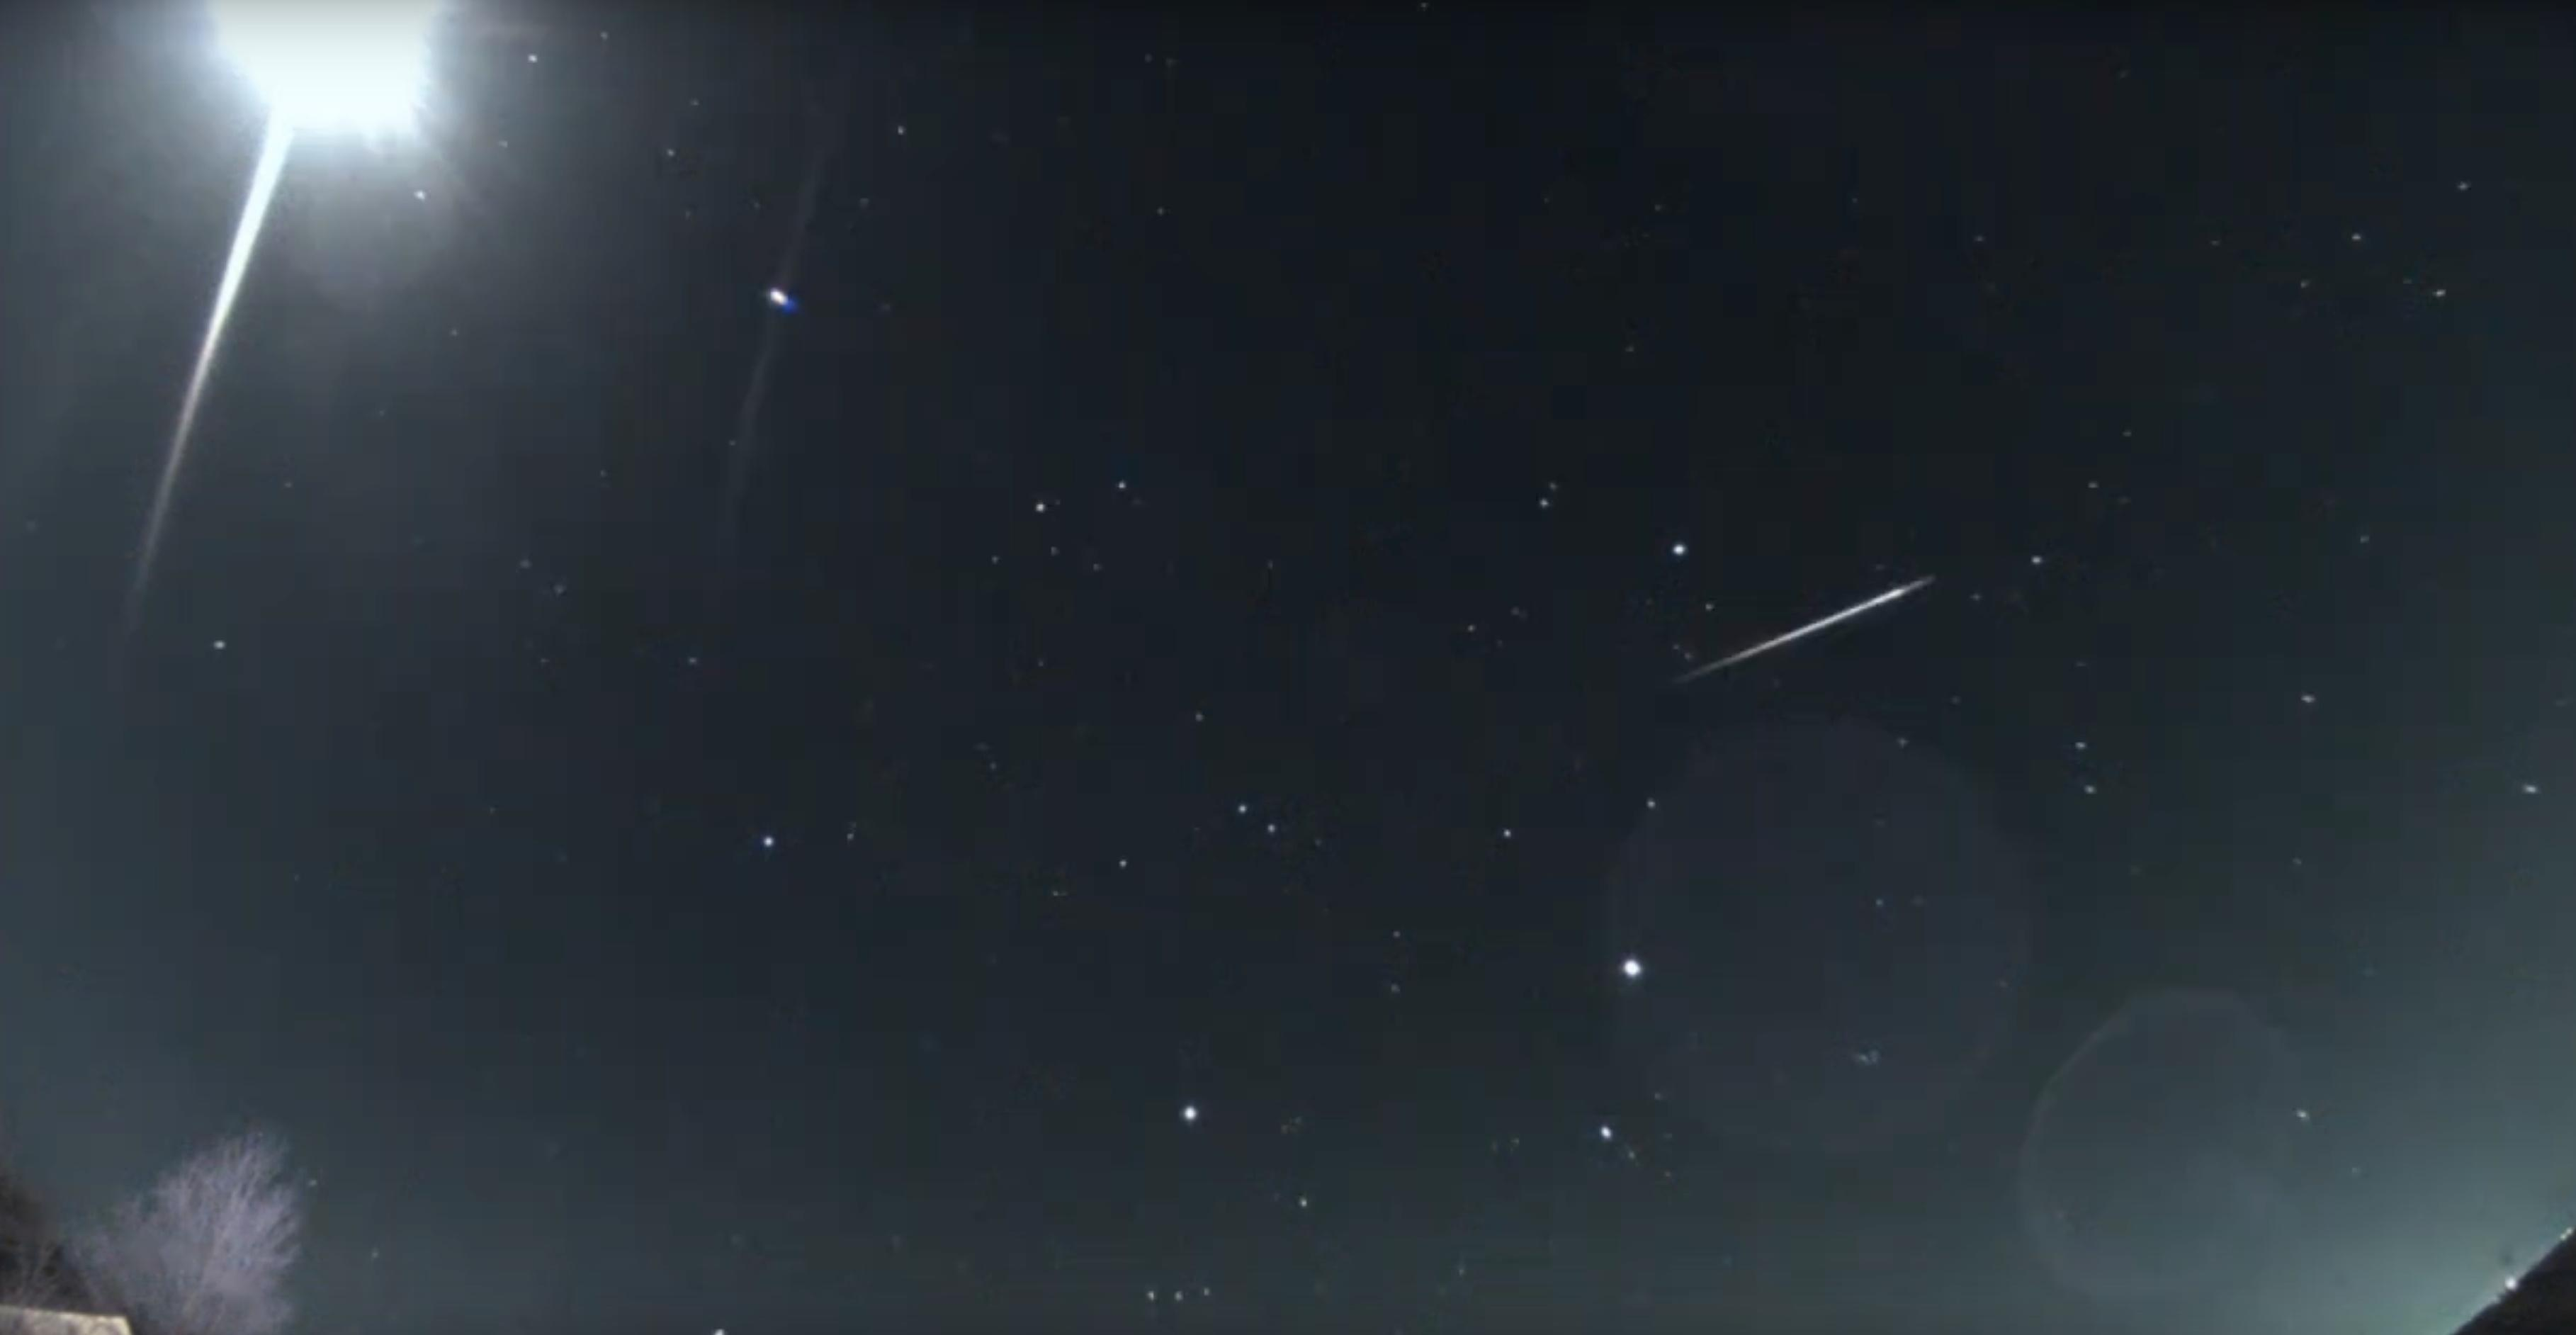meteorite: (1611, 557, 2037, 691)
